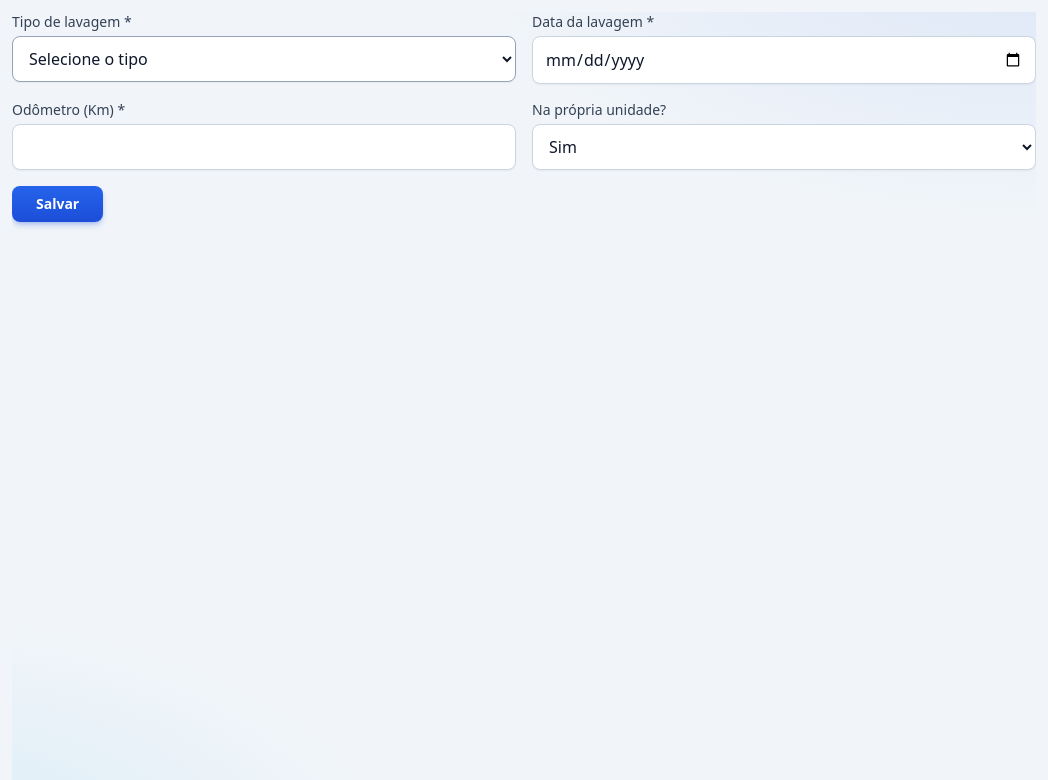
Test: LavagemForm — estrutura base (Req. 4.1) › renderiza os campos da lavagem externa ao escolher "Não" na própria unidade
Select "Não" in the dropdown labelled "Na própria unidade?": {"x": 784, "y": 147} [532,124,1036,170]
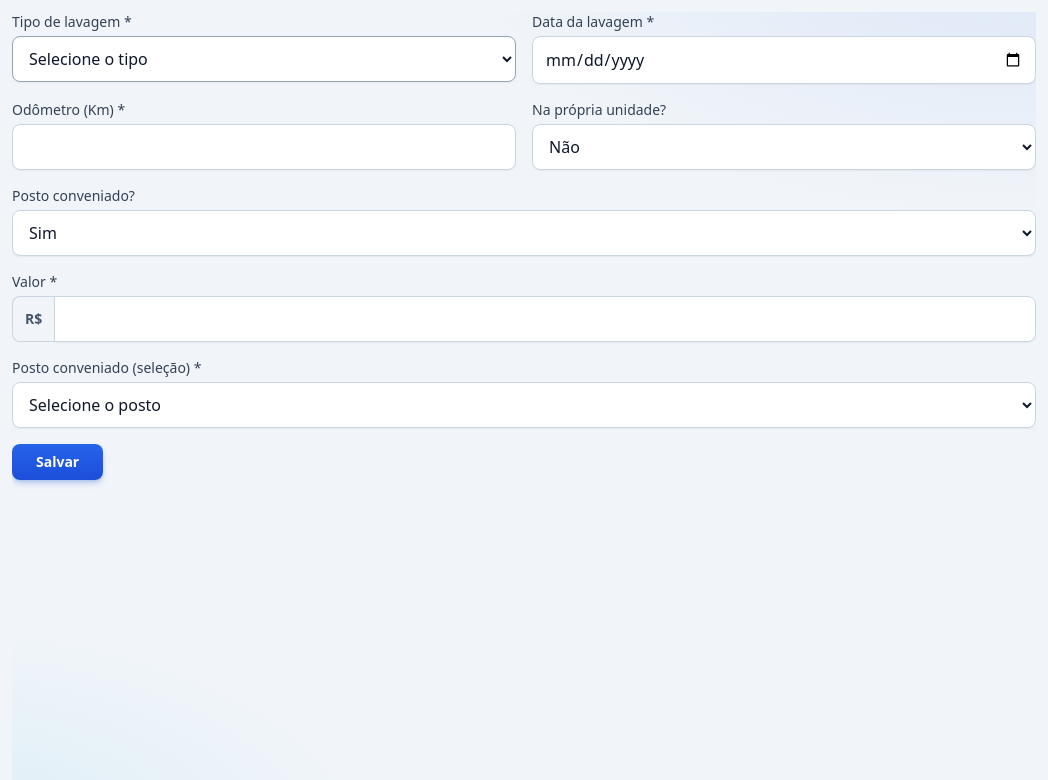
expect the field labelled "Valor *" is shown: met, box [54,296,1036,342]
expect the dropdown labelled "Posto conveniado?" is shown: met
expect the dropdown labelled "Posto conveniado (seleção) *" is shown: met, box [12,382,1036,428]
Não conveniado: descrição + CNPJ.
Select "Não" in the dropdown labelled "Posto conveniado?": {"x": 524, "y": 233} [12,210,1036,256]
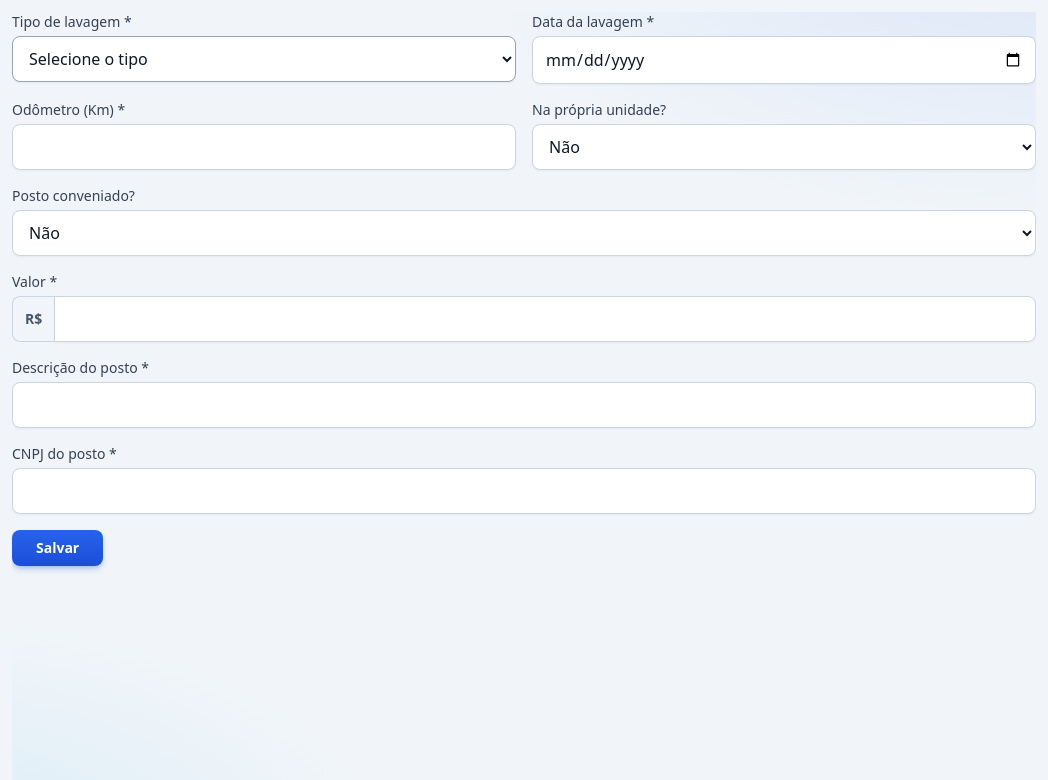
expect the field labelled "Descrição do posto *" is shown: met, box [12,382,1036,428]
expect the field labelled "CNPJ do posto *" is shown: met, box [12,468,1036,514]
